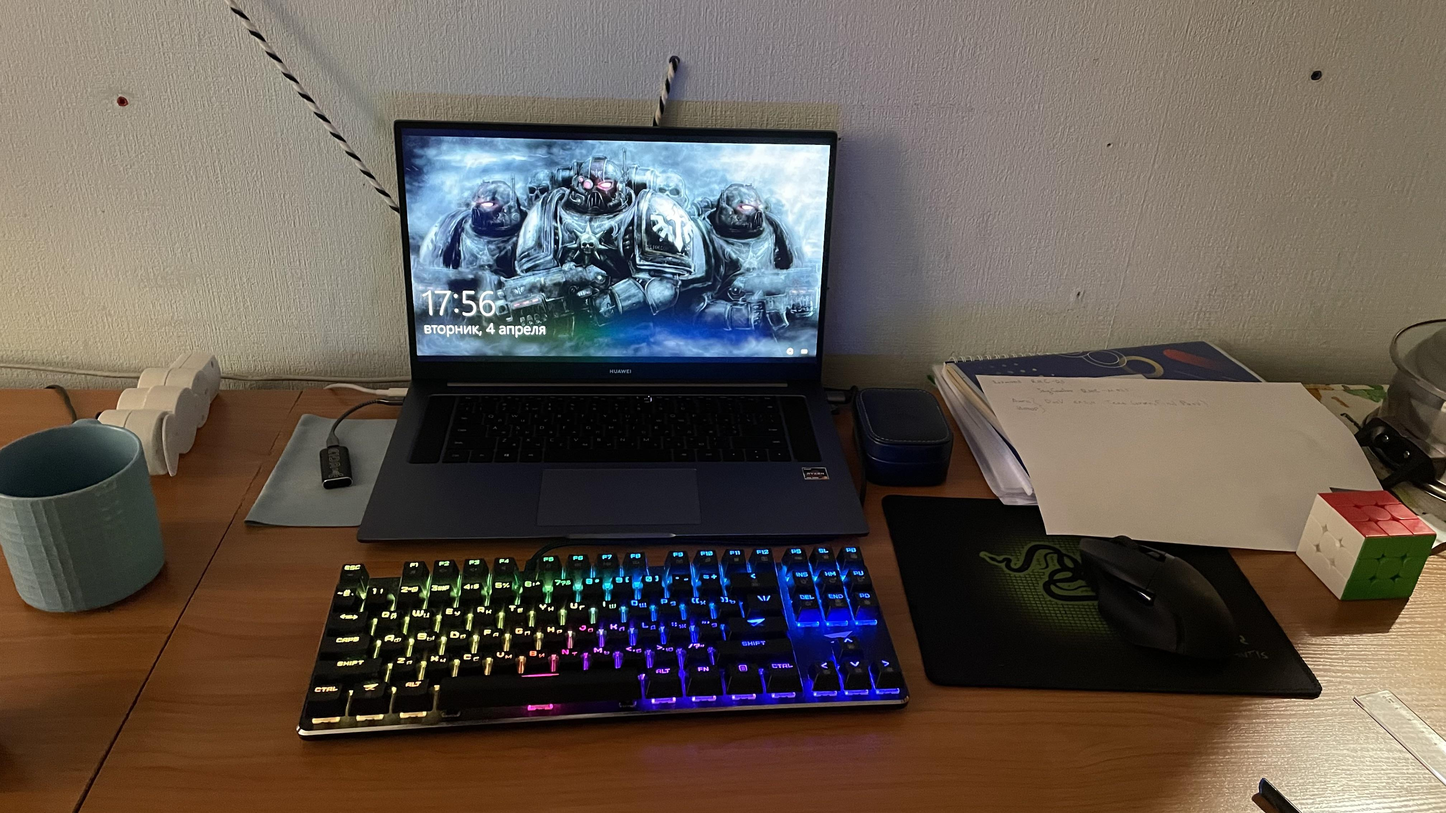monitor: (382, 115, 843, 400)
